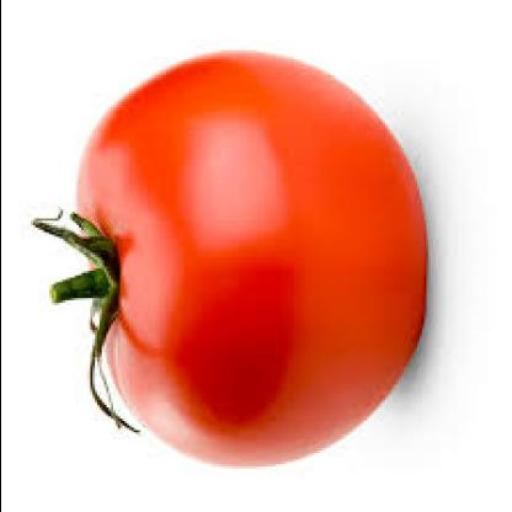biodegradable: (27, 52, 423, 471)
